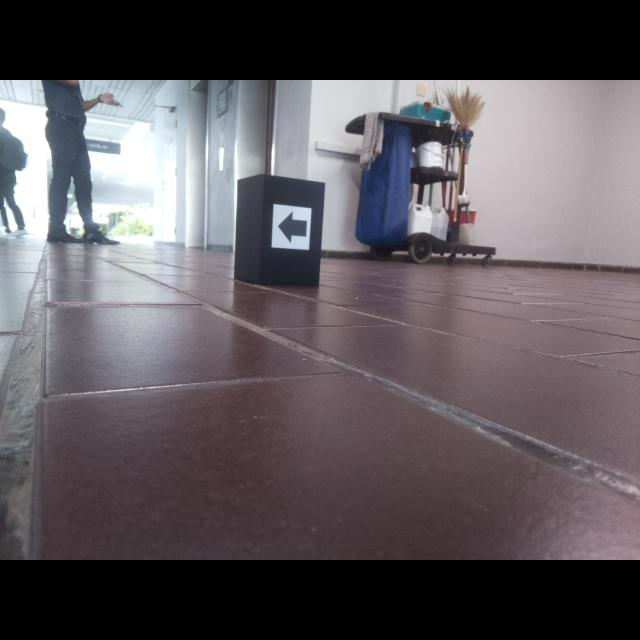LEFT: (277, 209, 308, 245)
